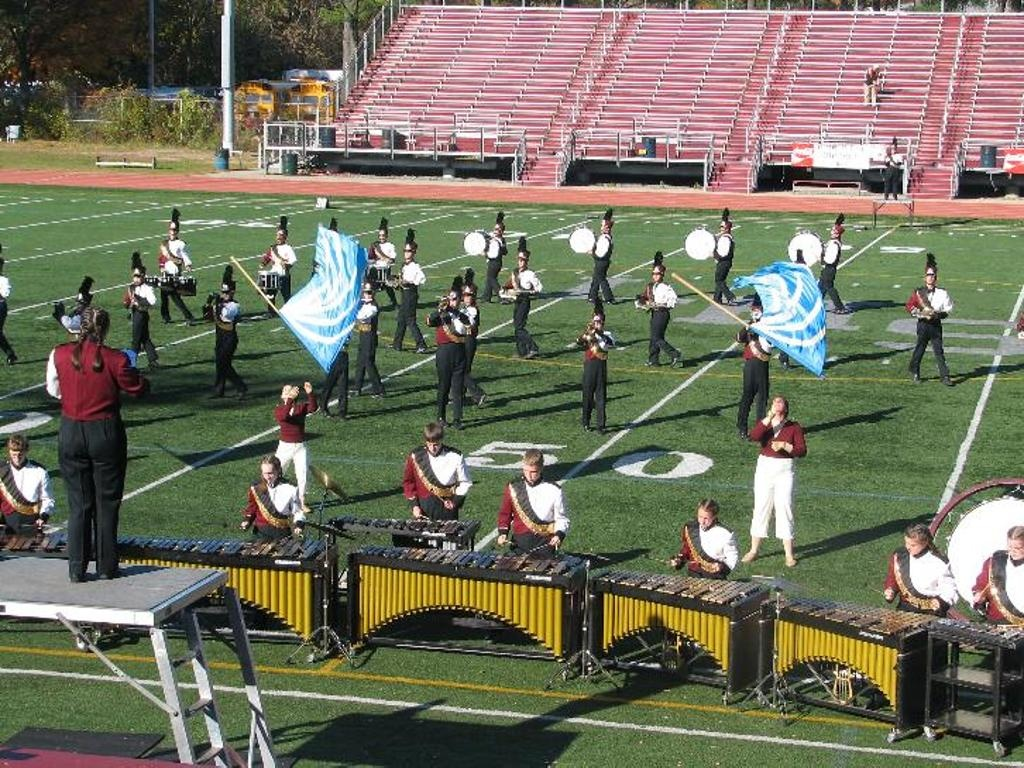human_face: (1006, 536, 1024, 560), (905, 536, 923, 554), (9, 446, 25, 466), (261, 463, 277, 482), (523, 464, 539, 482), (696, 508, 712, 526), (427, 436, 441, 454), (462, 292, 474, 304), (772, 398, 784, 410), (448, 294, 458, 308), (751, 306, 761, 318), (592, 318, 602, 330), (282, 394, 294, 404), (276, 233, 286, 243), (925, 272, 935, 282), (222, 288, 230, 300), (133, 273, 141, 283), (403, 248, 411, 258), (362, 290, 372, 298), (518, 256, 526, 266), (652, 270, 660, 280), (168, 226, 176, 234), (720, 224, 728, 232), (378, 236, 386, 243), (494, 227, 500, 235), (600, 223, 606, 231), (830, 229, 836, 237)
